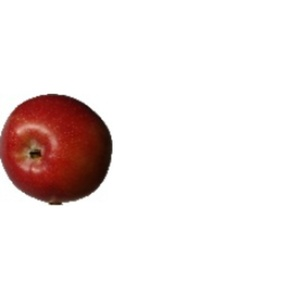maçã braeburn: (1, 89, 115, 206)
